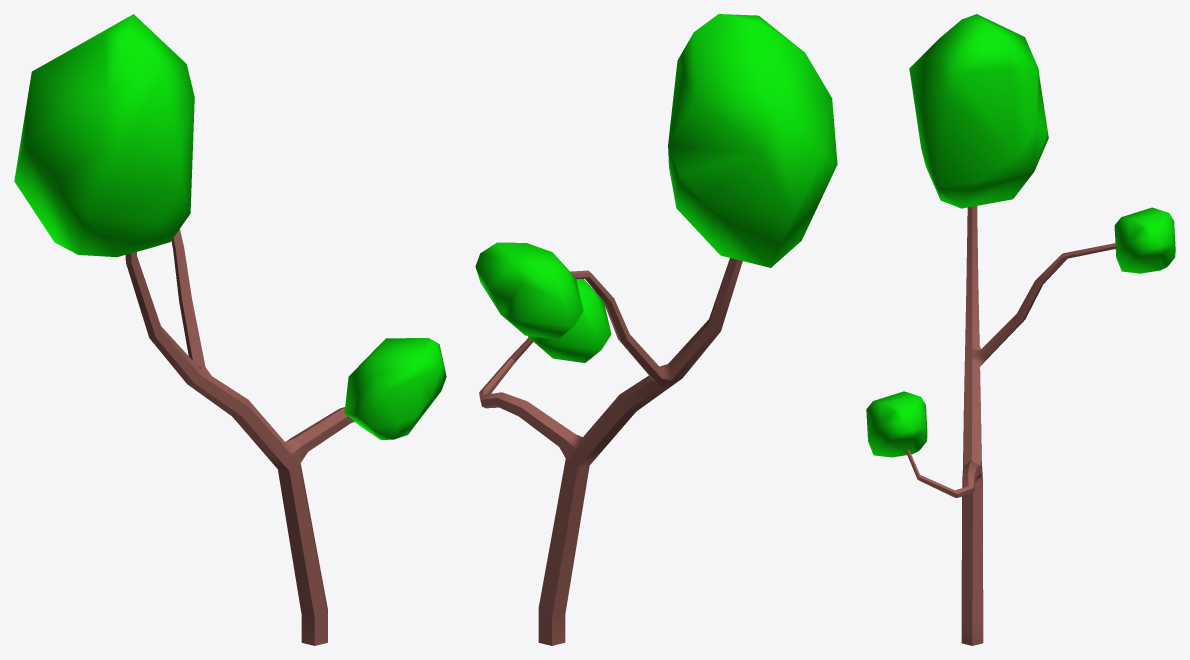
File: Tree2.fbx
The picture shows the model from 3 angles, left to right: view 1: azimuth 30°, elevation 25°; view 2: azimuth 150°, elevation 25°; view 3: azimuth 270°, elevation 25°; orthographic projection. The views are drawn at different scales.
Parts seen in each view (by area): view 1: Tree2; view 2: Tree2; view 3: Tree2.
Part boxes in pixels (box(x1,y1,x2,y2)): Tree2: box(14, 14, 446, 645); Tree2: box(475, 14, 837, 645); Tree2: box(866, 14, 1175, 645).
Size of the model in its own units: 424 by 739 by 378.
